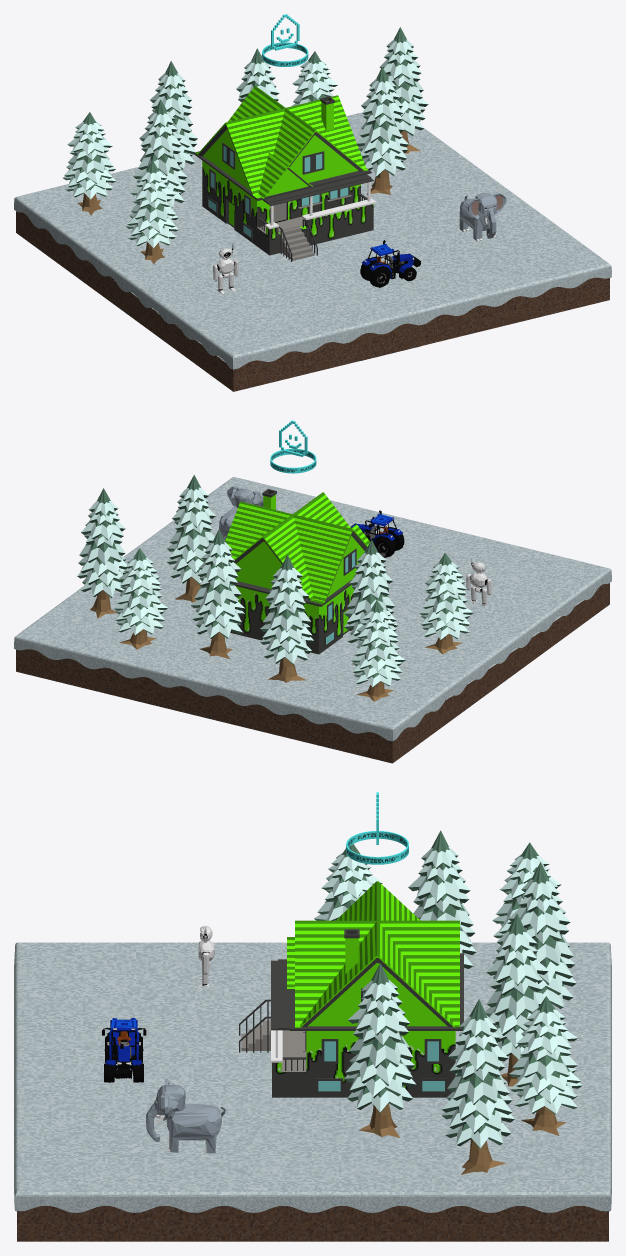
3 renders of one model, top to bottom at view 1: azimuth 30°, elevation 25°; view 2: azimuth 150°, elevation 25°; view 3: azimuth 270°, elevation 25°, orthographic. The views are drawn at different scales.
Parts seen in each view (by area): view 1: Cube.003, Cube.754, VEHICLES_TRACTOR, ANIMAL_ELEFANTE, TYPE_PREMIUM, OBJRANDOM_PLATZEEBOT; view 2: Cube.003, Cube.754, VEHICLES_TRACTOR, TYPE_PREMIUM, ANIMAL_ELEFANTE, OBJRANDOM_PLATZEEBOT; view 3: Cube.003, Cube.754, ANIMAL_ELEFANTE, VEHICLES_TRACTOR, TYPE_PREMIUM, OBJRANDOM_PLATZEEBOT.
Boxes of the visible parts, box(x1,y1,x2,y2) form: Cube.003: box(14, 27, 611, 391); Cube.754: box(194, 86, 376, 261); VEHICLES_TRACTOR: box(360, 240, 420, 287); ANIMAL_ELEFANTE: box(459, 192, 506, 241); TYPE_PREMIUM: box(262, 14, 308, 66); OBJRANDOM_PLATZEEBOT: box(213, 243, 238, 293); Cube.003: box(14, 475, 611, 763); Cube.754: box(225, 489, 388, 654); VEHICLES_TRACTOR: box(350, 510, 404, 557); TYPE_PREMIUM: box(270, 420, 316, 473); ANIMAL_ELEFANTE: box(219, 486, 263, 540); OBJRANDOM_PLATZEEBOT: box(466, 557, 491, 606); Cube.003: box(14, 830, 611, 1241); Cube.754: box(239, 881, 463, 1097); ANIMAL_ELEFANTE: box(146, 1079, 225, 1153); VEHICLES_TRACTOR: box(102, 1018, 146, 1082); TYPE_PREMIUM: box(346, 792, 408, 864); OBJRANDOM_PLATZEEBOT: box(197, 925, 214, 987).
Bounding box in the file's own units: 4040 × 2467 × 4040.
Materials: 36 (5 with a texture image).
